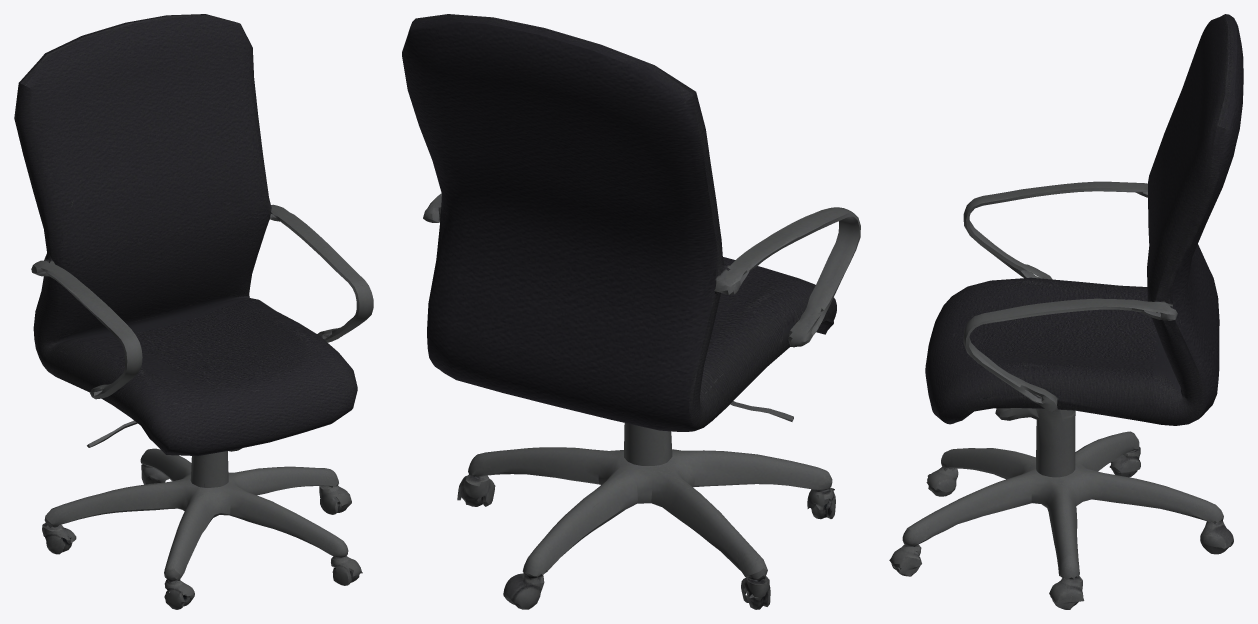
The model's file is Meshy_AI_Black_Office_Chair_1110045910_texture.fbx.
The picture shows the model from 3 angles, left to right: view 1: azimuth 30°, elevation 25°; view 2: azimuth 150°, elevation 25°; view 3: azimuth 270°, elevation 25°; orthographic projection. The views are drawn at different scales.
Parts seen in each view (by area): view 1: Mesh0; view 2: Mesh0; view 3: Mesh0.
Boxes of the visible parts, <box> form: Mesh0: <box>14,14,373,609</box>; Mesh0: <box>402,14,860,609</box>; Mesh0: <box>889,14,1243,609</box>.
Size of the model in its own units: 117 by 190 by 124.
Materials: 1 (1 with a texture image).
